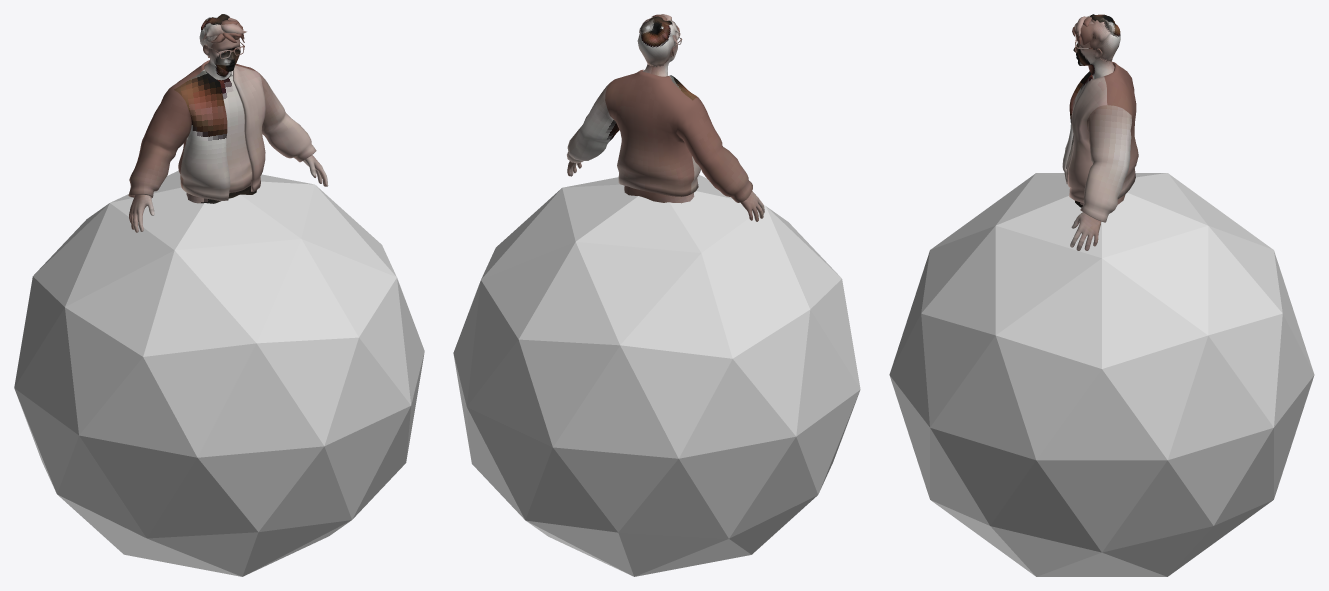
File: boy_ready_p_m_2.fbx
The picture shows the model from 3 angles, left to right: view 1: azimuth 30°, elevation 25°; view 2: azimuth 150°, elevation 25°; view 3: azimuth 270°, elevation 25°; orthographic projection. The views are drawn at different scales.
Visible parts, largest first — view 1: Icosphere, Wolf3D_Outfit_Top, Wolf3D_Hair, Wolf3D_Head, Wolf3D_Body; view 2: Icosphere, Wolf3D_Outfit_Top, Wolf3D_Hair, Wolf3D_Body, Wolf3D_Outfit_Bottom; view 3: Icosphere, Wolf3D_Outfit_Top, Wolf3D_Hair, Wolf3D_Head, Wolf3D_Body.
Boxes of the visible parts, x1=… form: Icosphere: x1=14, y1=170, x2=424, y2=576; Wolf3D_Outfit_Top: x1=128, y1=60, x2=316, y2=200; Wolf3D_Hair: x1=199, y1=14, x2=246, y2=57; Wolf3D_Head: x1=203, y1=38, x2=240, y2=80; Wolf3D_Body: x1=129, y1=155, x2=328, y2=232; Icosphere: x1=453, y1=175, x2=860, y2=576; Wolf3D_Outfit_Top: x1=567, y1=69, x2=752, y2=202; Wolf3D_Hair: x1=637, y1=14, x2=680, y2=67; Wolf3D_Body: x1=567, y1=161, x2=764, y2=221; Wolf3D_Outfit_Bottom: x1=624, y1=186, x2=694, y2=203; Icosphere: x1=889, y1=173, x2=1314, y2=576; Wolf3D_Outfit_Top: x1=1062, y1=61, x2=1138, y2=222; Wolf3D_Hair: x1=1072, y1=14, x2=1120, y2=61; Wolf3D_Head: x1=1073, y1=39, x2=1114, y2=79; Wolf3D_Body: x1=1070, y1=212, x2=1101, y2=250.
Bounding box in the file's own units: 190 × 286 × 200.
Materials: 9 (9 with a texture image).
